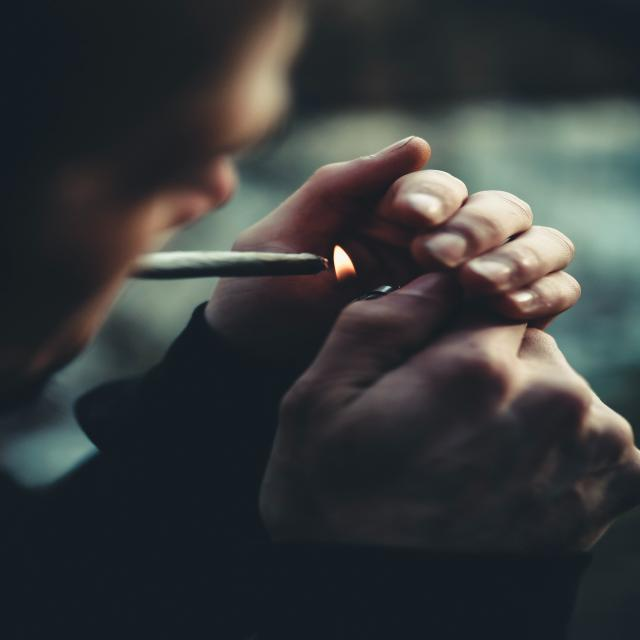fire: (308, 237, 369, 295)
